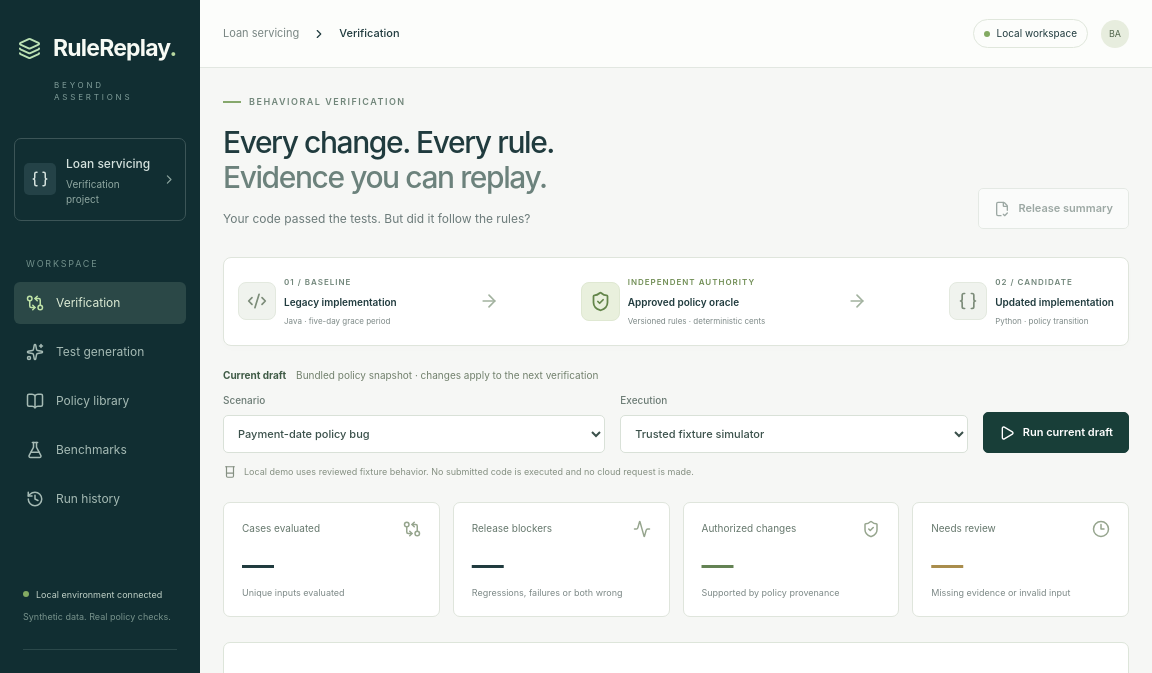
Scenario: inconsistent replay shows an error without a successful replay claim
Check: the text "Local environment connected" is shown, box [23,588,177,601]
Click the button "Run current draft".
click(1056, 433)  # box [983,412,1129,453]
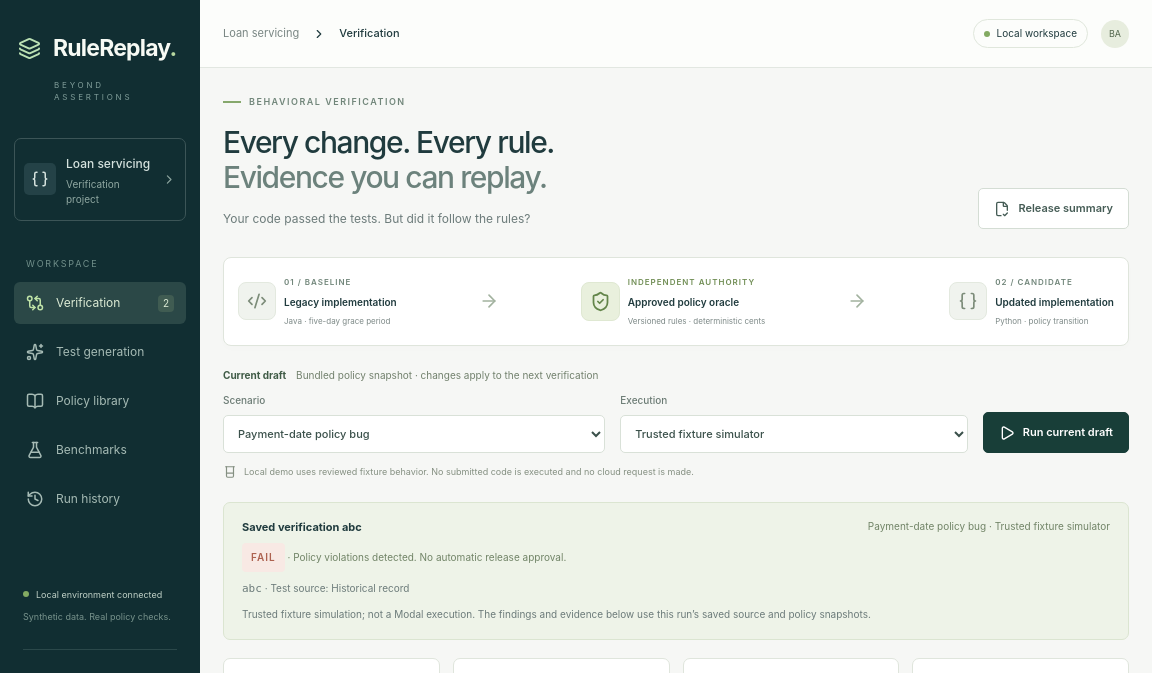
Click the button "Release summary".
click(1054, 209)  # box [978,188,1129,229]
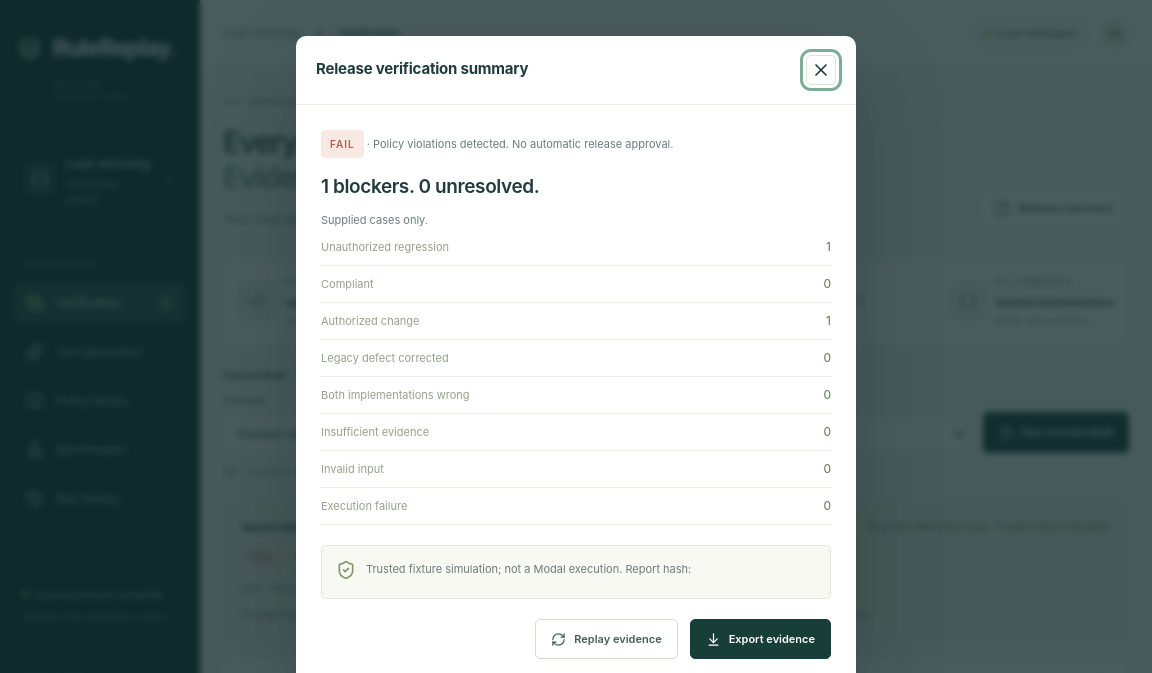
Click the button "Replay evidence".
click(606, 639)  # box [535,619,678,659]
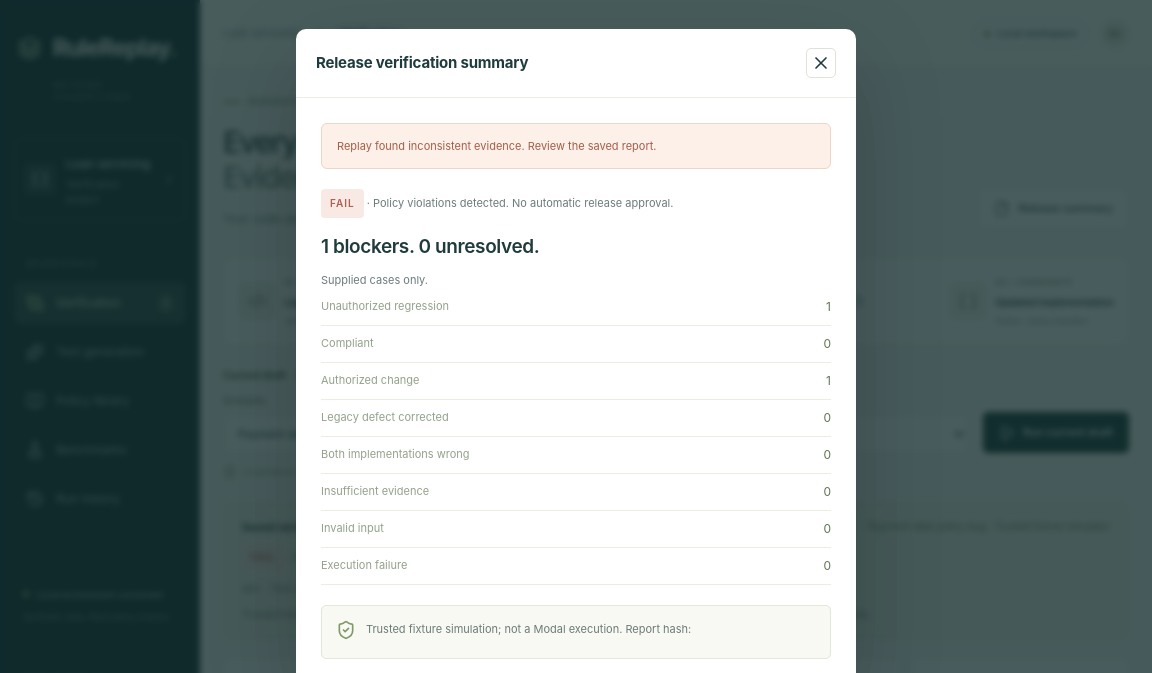
Check: the message shows "inconsistent evidence", box [337,139,656,153]
